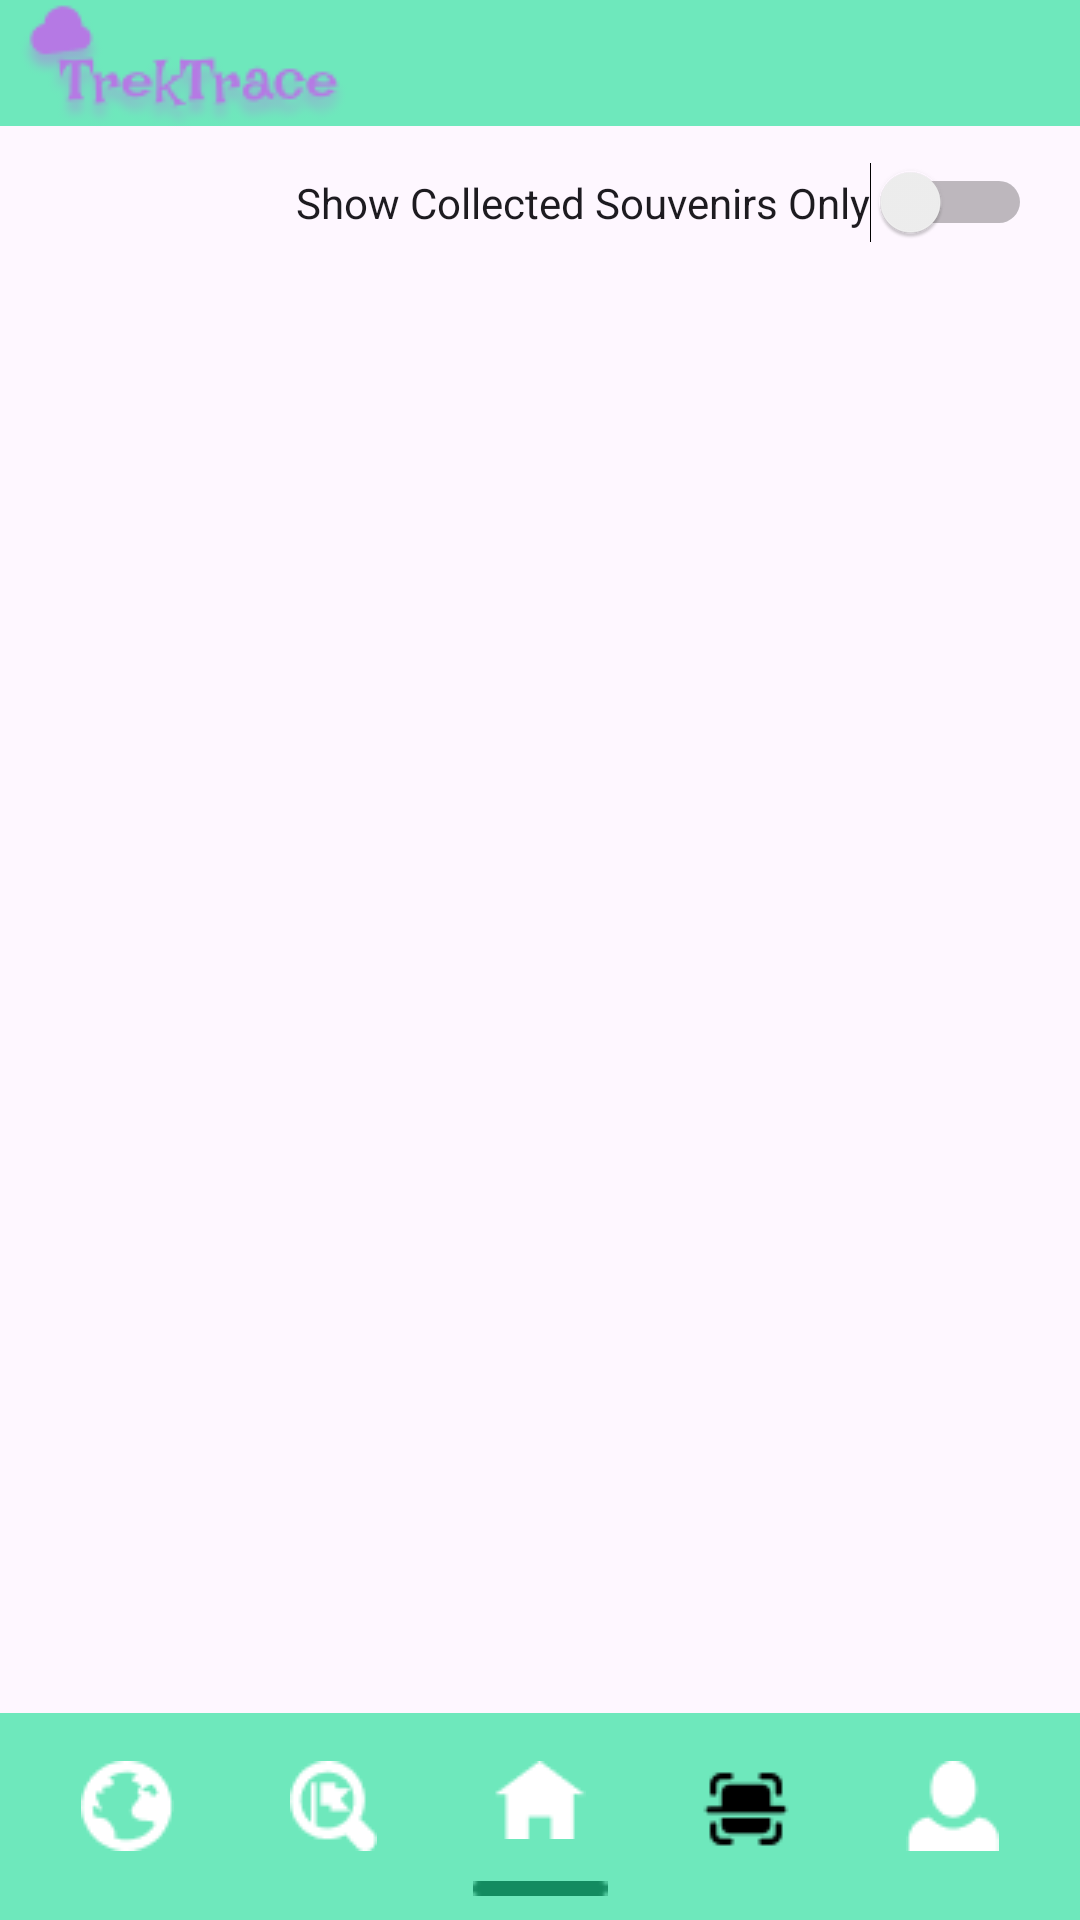

Icon bounding boxes for this 1080x1920 phone screenshot, format rect(x1, y1, x2, y2):
explore world by map: rect(81, 1761, 172, 1851)
home: rect(495, 1761, 584, 1839)
profile: rect(908, 1761, 999, 1851)
scan: rect(704, 1772, 788, 1846)
search by location: rect(290, 1761, 377, 1851)
